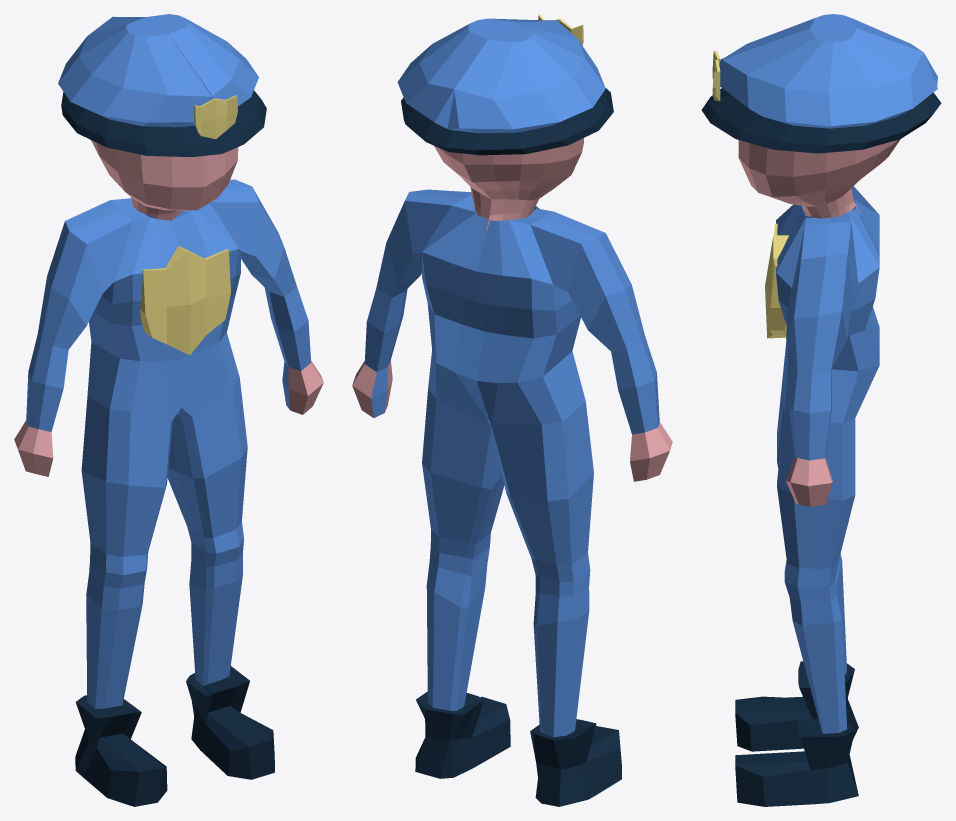
Rendered from cop.fbx.
The picture shows the model from 3 angles, left to right: view 1: azimuth 30°, elevation 25°; view 2: azimuth 150°, elevation 25°; view 3: azimuth 270°, elevation 25°; orthographic projection. The views are drawn at different scales.
Visible parts, largest first — view 1: body, Circle, badge, head, badge.001; view 2: body, Circle, head; view 3: body, Circle, head, badge.
Part boxes in pixels (bbox=[...]): body: bbox=[14, 179, 323, 806]; Circle: bbox=[58, 14, 266, 157]; badge: bbox=[140, 246, 230, 355]; head: bbox=[91, 140, 238, 221]; badge.001: bbox=[193, 95, 237, 139]; body: bbox=[352, 189, 672, 806]; Circle: bbox=[397, 18, 613, 155]; head: bbox=[434, 138, 583, 230]; body: bbox=[735, 186, 879, 806]; Circle: bbox=[701, 14, 941, 153]; head: bbox=[738, 139, 900, 218]; badge: bbox=[765, 223, 788, 338].
Bounding box in the file's own units: 206 × 474 × 139.
